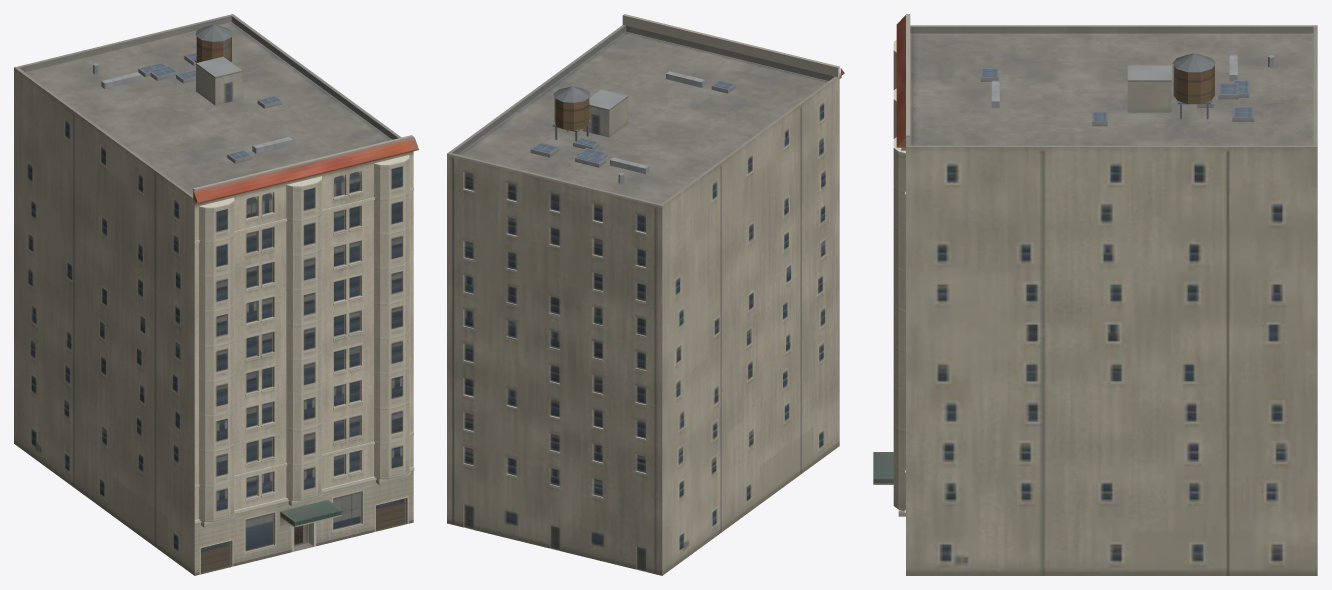
File: sf_apartment_a.glb
The picture shows the model from 3 angles, left to right: view 1: azimuth 30°, elevation 25°; view 2: azimuth 150°, elevation 25°; view 3: azimuth 270°, elevation 25°; orthographic projection. The views are drawn at different scales.
Parts seen in each view (by area): view 1: sf_apartment_a; view 2: sf_apartment_a; view 3: sf_apartment_a.
Boxes of the visible parts, box(x1,y1,x2,y2) form: sf_apartment_a: box(14, 14, 418, 575); sf_apartment_a: box(447, 14, 844, 575); sf_apartment_a: box(873, 14, 1317, 575).
Bounding box in the file's own units: 21.2 × 38.78 × 32.4.
1 material, 1 textured.
